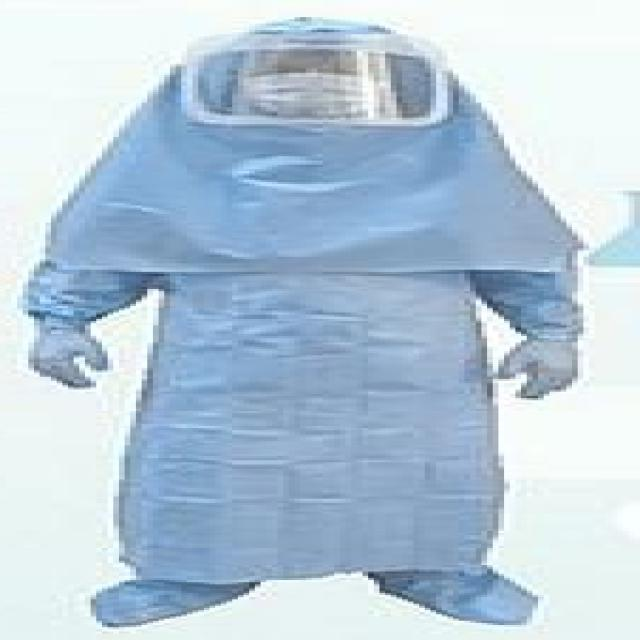gloves: (481, 332, 578, 404), (18, 327, 118, 389)
